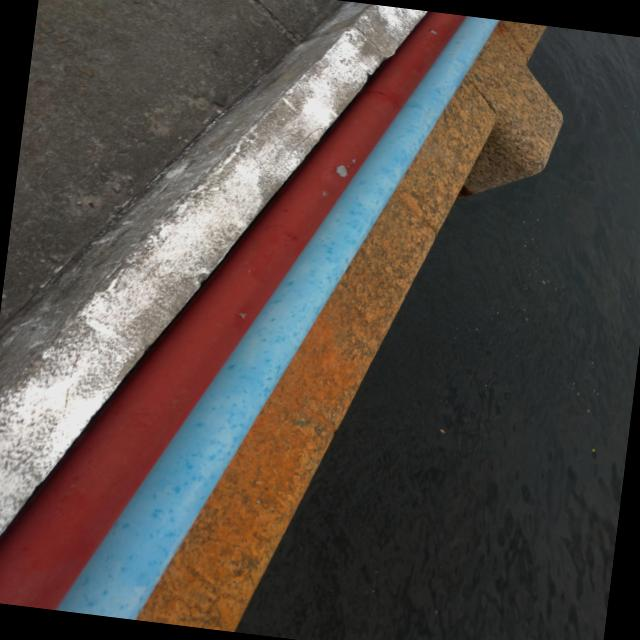gas: (0, 11, 464, 607), (52, 16, 500, 620)
